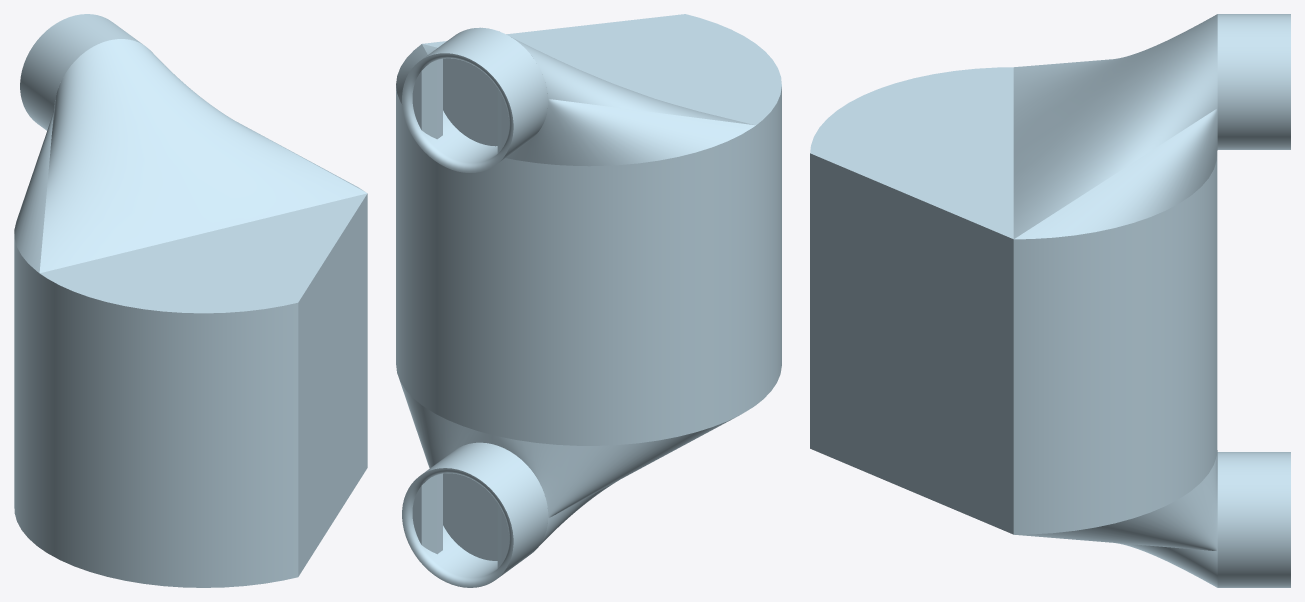
Rendered from watch_holder.gltf.
3 renders of one model, left to right at view 1: azimuth 30°, elevation 25°; view 2: azimuth 150°, elevation 25°; view 3: azimuth 270°, elevation 25°, orthographic. The views are drawn at different scales.
Parts seen in each view (by area): view 1: Part 1 (×2); view 2: Part 1 (×3); view 3: Part 1 (×3).
Boxes of the visible parts, box(x1,y1,x2,y2) form: Part 1 (×2): box(14, 14, 367, 587); Part 1 (×3): box(396, 14, 781, 587); Part 1 (×3): box(810, 14, 1290, 587).
Bounding box in the file's own units: 0.05 × 0.076 × 0.059.
